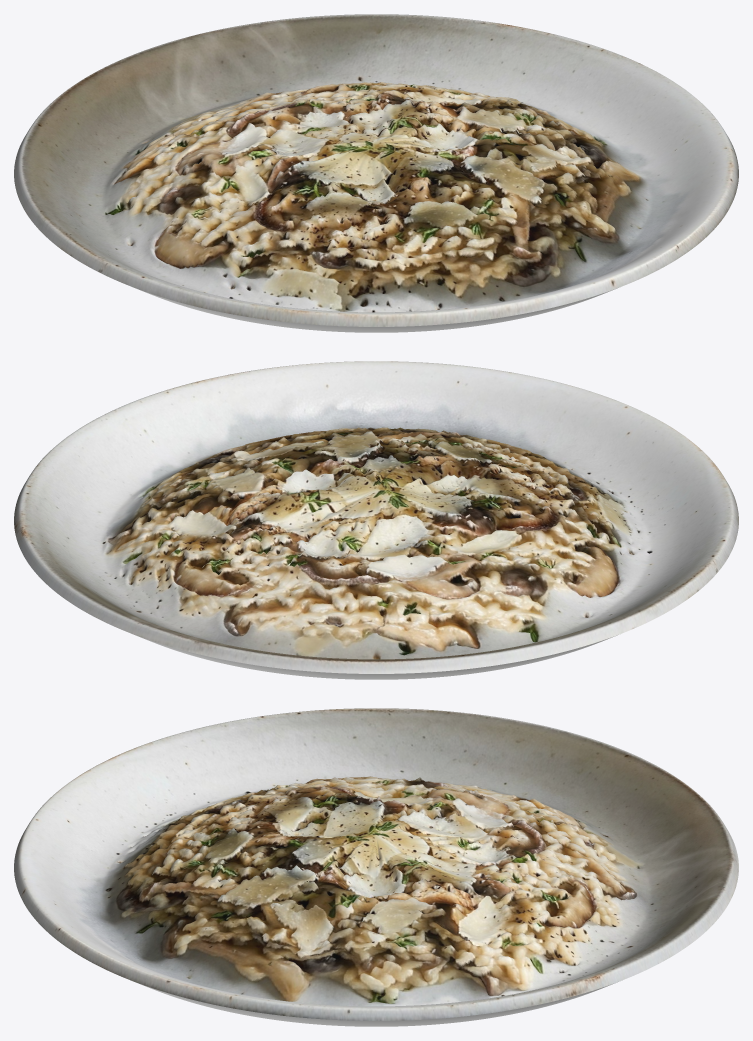
Rendered from risoto-funghi.glb.
The picture shows the model from 3 angles, top to bottom: view 1: azimuth 30°, elevation 25°; view 2: azimuth 150°, elevation 25°; view 3: azimuth 270°, elevation 25°; orthographic projection.
Visible parts, largest first — view 1: risoto-funghi; view 2: risoto-funghi; view 3: risoto-funghi.
Boxes of the visible parts, x1,y1,x2,y2 form: risoto-funghi: (14,14,738,332); risoto-funghi: (14,361,738,679); risoto-funghi: (14,708,738,1026).
Bounding box in the file's own units: 0.28 × 0.0336 × 0.28.
Materials: 2 (1 with a texture image).
